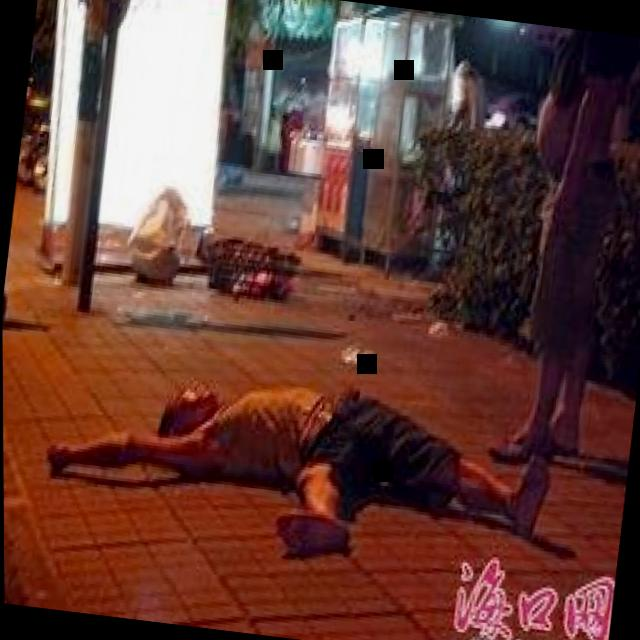Fall-Detected: (32, 321, 574, 579)
